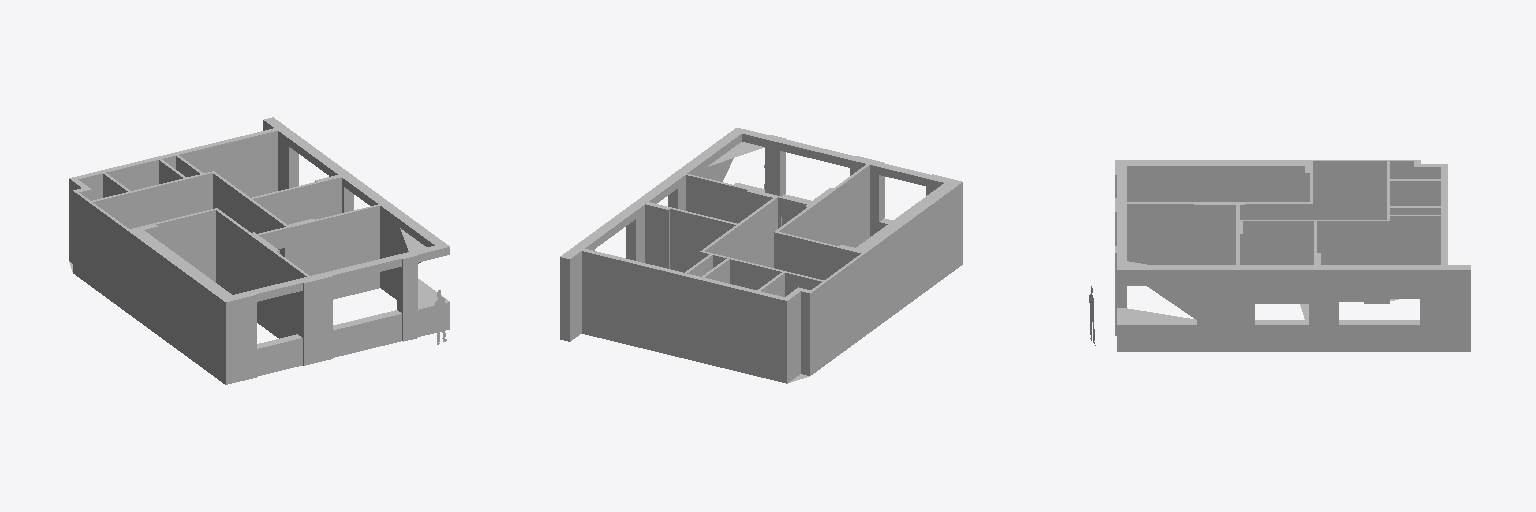
Rendered from apartment.obj.
3 views of the same model, side by side, from view 1: azimuth 30°, elevation 25°; view 2: azimuth 150°, elevation 25°; view 3: azimuth 270°, elevation 25° (orthographic).
Visible parts, largest first — view 1: Mesh2 Model; view 2: Mesh2 Model; view 3: Mesh2 Model.
Boxes of the visible parts, box(x1,y1,x2,y2) form: Mesh2 Model: box(69, 117, 449, 384); Mesh2 Model: box(560, 128, 962, 383); Mesh2 Model: box(1115, 160, 1470, 351).
Size of the model in its own units: 7.71 by 2.71 by 11.3.